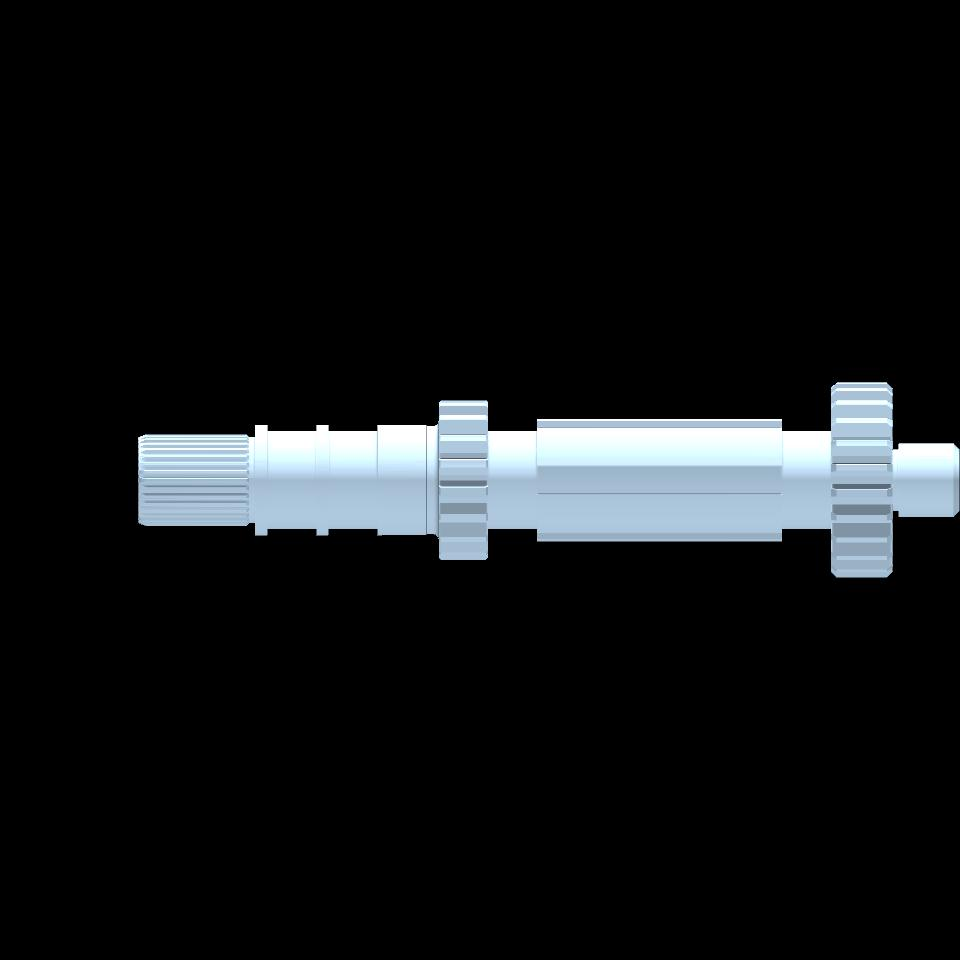Straight: (836, 383, 890, 576), (142, 434, 245, 526), (440, 401, 486, 560)
